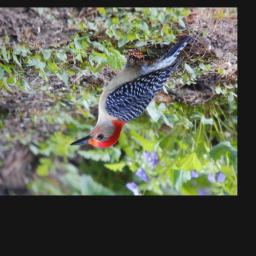Woodpecker: (70, 35, 194, 149)
